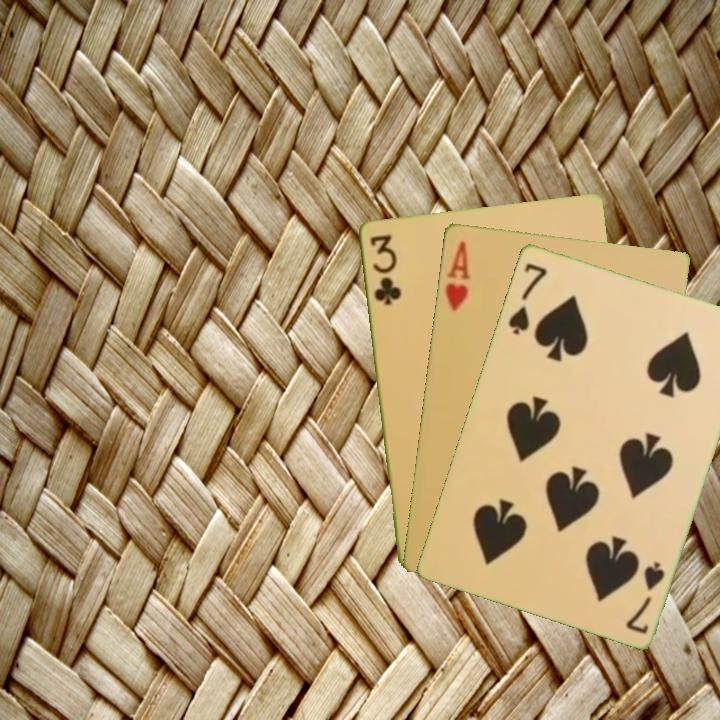3c: (366, 230, 403, 308)
7s: (622, 557, 668, 637), (504, 259, 550, 337)
Ah: (441, 236, 473, 314)
